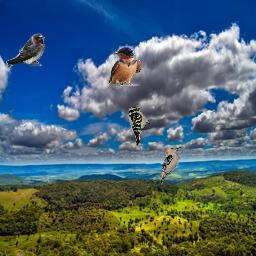Swallow: (6, 33, 46, 68), (108, 46, 141, 86)
Woodpecker: (128, 106, 152, 146), (158, 145, 182, 185)
